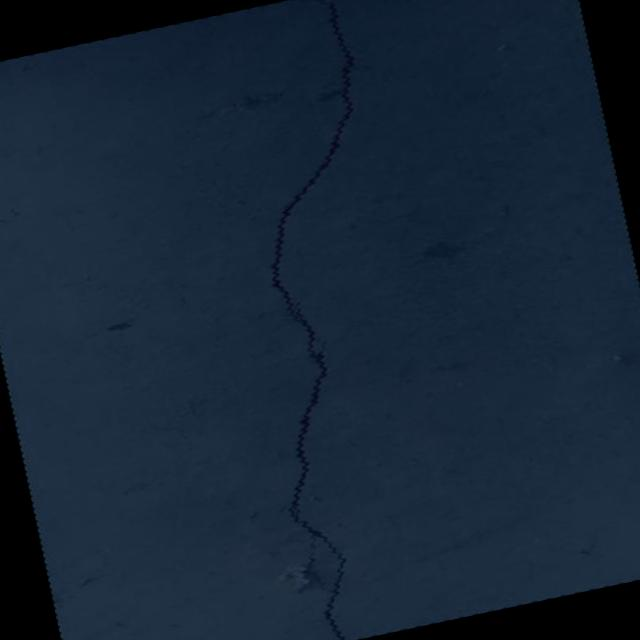crack: (185, 0, 472, 640)
